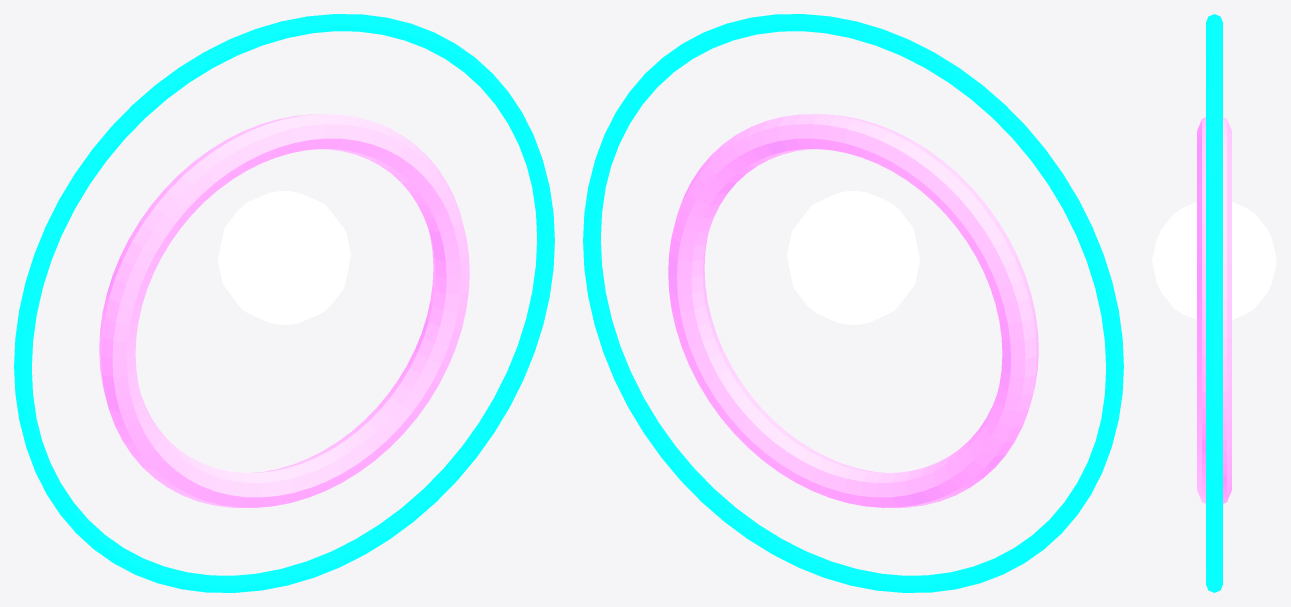
Rendered from gravity_mine.glb.
The picture shows the model from 3 angles, left to right: view 1: azimuth 30°, elevation 25°; view 2: azimuth 150°, elevation 25°; view 3: azimuth 270°, elevation 25°; orthographic projection. The views are drawn at different scales.
Parts seen in each view (by area): view 1: GravityMineVioletBodyRing, GravityMineCyanPullField, GravityMineWhiteCore; view 2: GravityMineVioletBodyRing, GravityMineCyanPullField, GravityMineWhiteCore; view 3: GravityMineCyanPullField, GravityMineWhiteCore, GravityMineVioletBodyRing.
Part boxes in pixels (x1,y1,x2,y2): GravityMineVioletBodyRing: (99, 114, 469, 507); GravityMineCyanPullField: (14, 14, 554, 592); GravityMineWhiteCore: (218, 191, 350, 324); GravityMineVioletBodyRing: (668, 114, 1038, 507); GravityMineCyanPullField: (583, 14, 1123, 592); GravityMineWhiteCore: (787, 191, 919, 324); GravityMineCyanPullField: (1206, 14, 1222, 592); GravityMineWhiteCore: (1152, 202, 1276, 319); GravityMineVioletBodyRing: (1197, 117, 1231, 503).
Size of the model in its own units: 1.57 by 1.57 by 0.3392.
